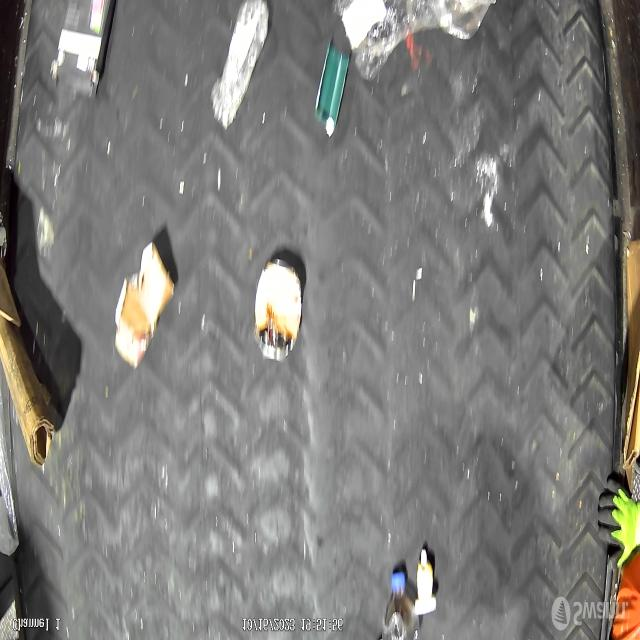can: (254, 252, 304, 366)
plastic_bottle: (378, 566, 420, 640)
